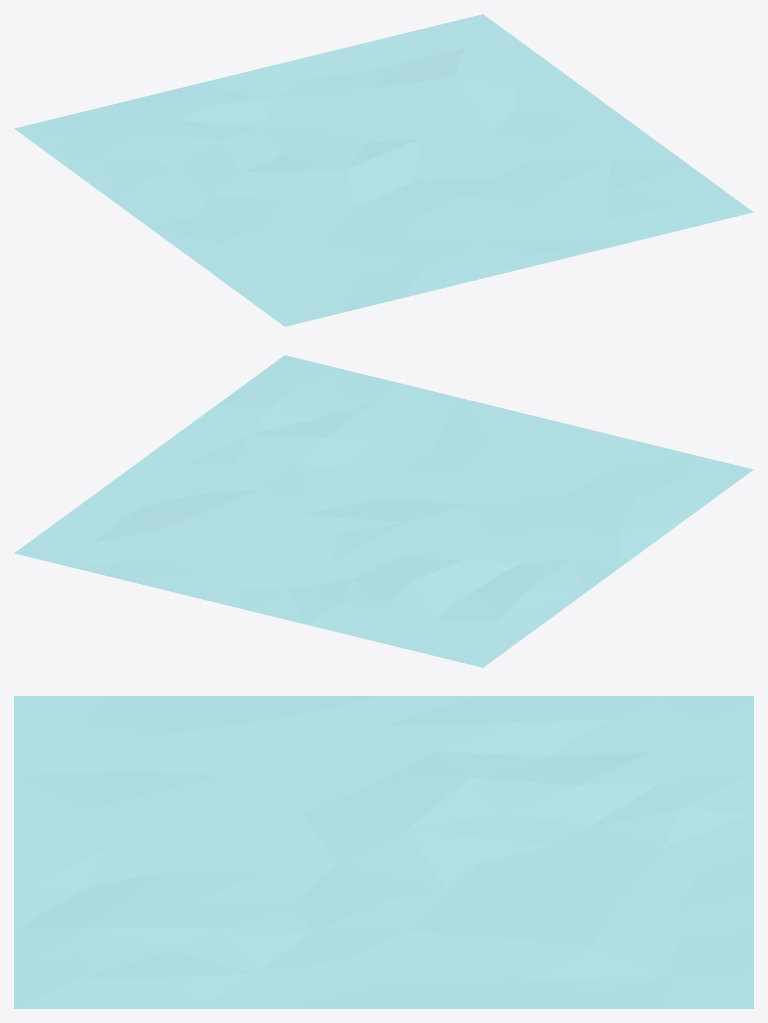
The model's file is Water_S_b_01.fbx.
3 renders of one model, top to bottom at view 1: azimuth 30°, elevation 25°; view 2: azimuth 150°, elevation 25°; view 3: azimuth 270°, elevation 25°, orthographic. The views are drawn at different scales.
Visible parts, largest first — view 1: Water_S_b_01; view 2: Water_S_b_01; view 3: Water_S_b_01.
Part boxes in pixels (box(x1,y1,x2,y2)): Water_S_b_01: box(14, 14, 753, 326); Water_S_b_01: box(14, 355, 753, 667); Water_S_b_01: box(14, 696, 753, 1008).
Size of the model in its own units: 2500 by 20 by 2500.
